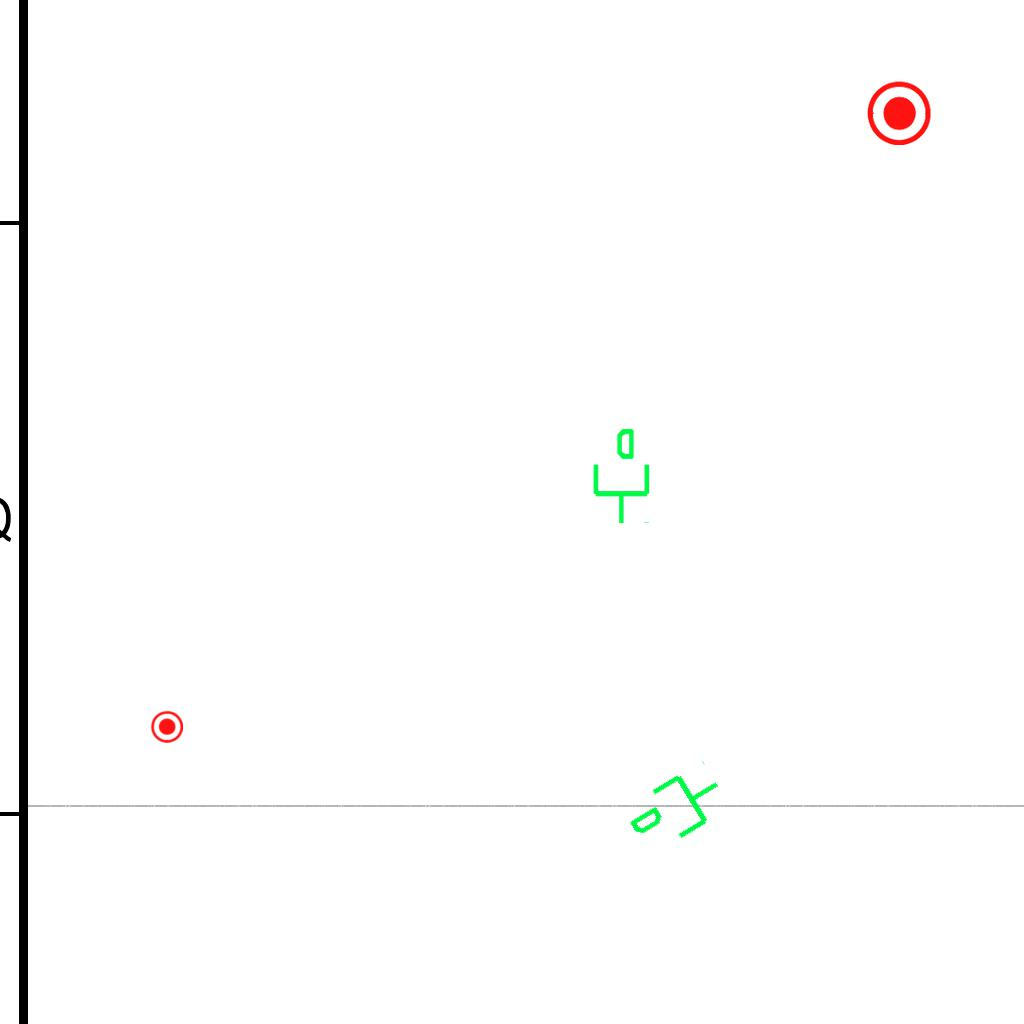Datenanschluss_einfach: (616, 754, 739, 866), (585, 426, 654, 526)
Taster: (867, 79, 933, 145), (150, 710, 183, 743)
